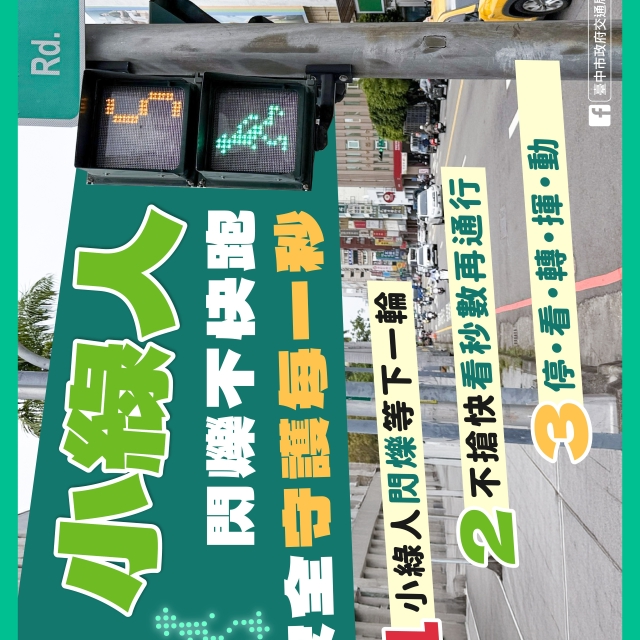green_light: (78, 71, 312, 194)
